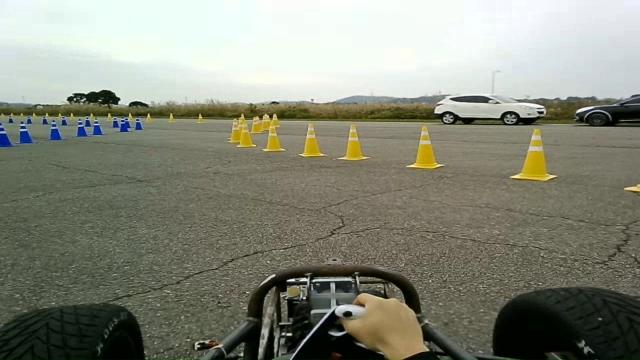blue cone: (15, 123, 37, 144), (45, 121, 66, 140), (0, 122, 15, 147), (72, 125, 89, 137), (92, 122, 105, 135), (118, 121, 130, 132), (134, 117, 144, 130)
yellow cone: (510, 128, 558, 181), (406, 125, 444, 169), (336, 123, 371, 161), (298, 122, 328, 158), (261, 123, 286, 152), (236, 125, 256, 148), (623, 183, 639, 192)
